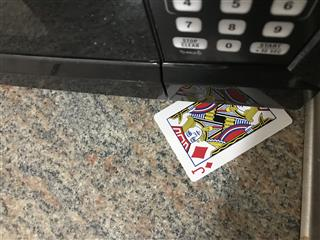JackOfDiamonds: (154, 99, 294, 183)
